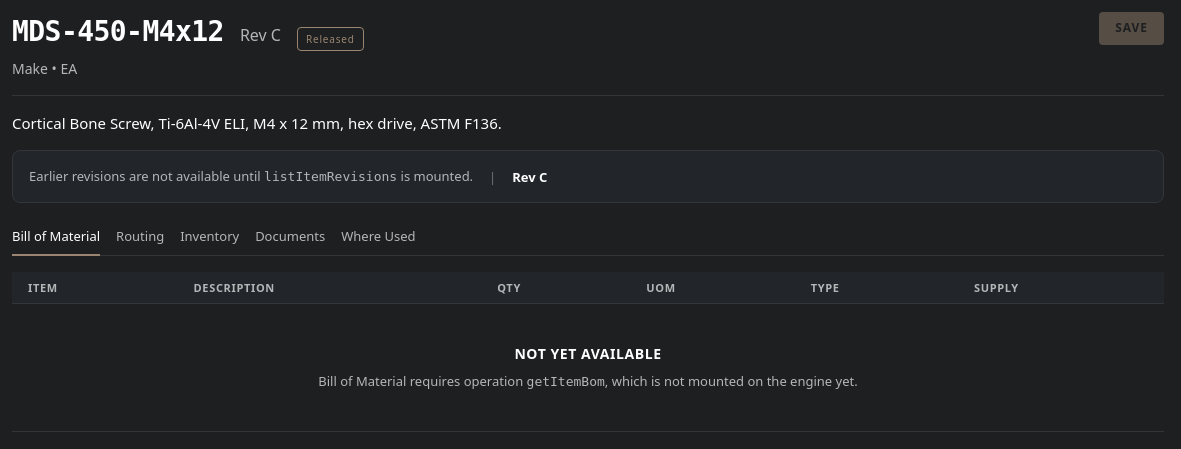
item master screen › shows a Not yet available state on the {"operationId":"listItemWhereUsed","label":"Where Used"} tab
Expected: the heading "MDS-450-M4x12" is shown, [12,12,224,51]
Click the tab "Where Used" at (378, 238), box [341,220,416,256]
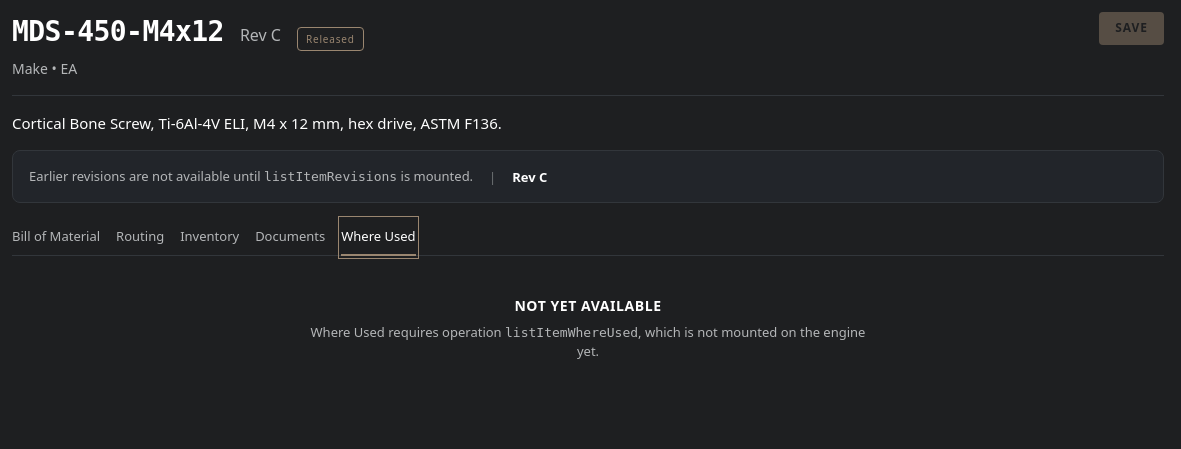
Expected: the text "listItemWhereUsed" is shown, [505,325,638,340]
